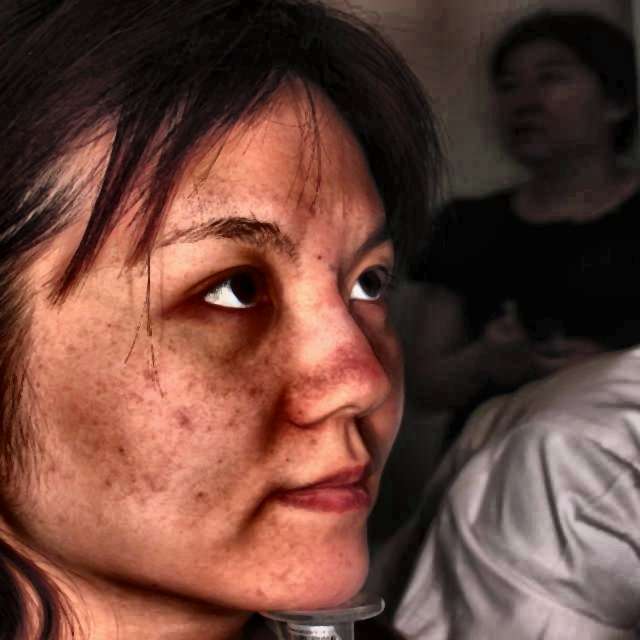comedone: (366, 361, 386, 383)
